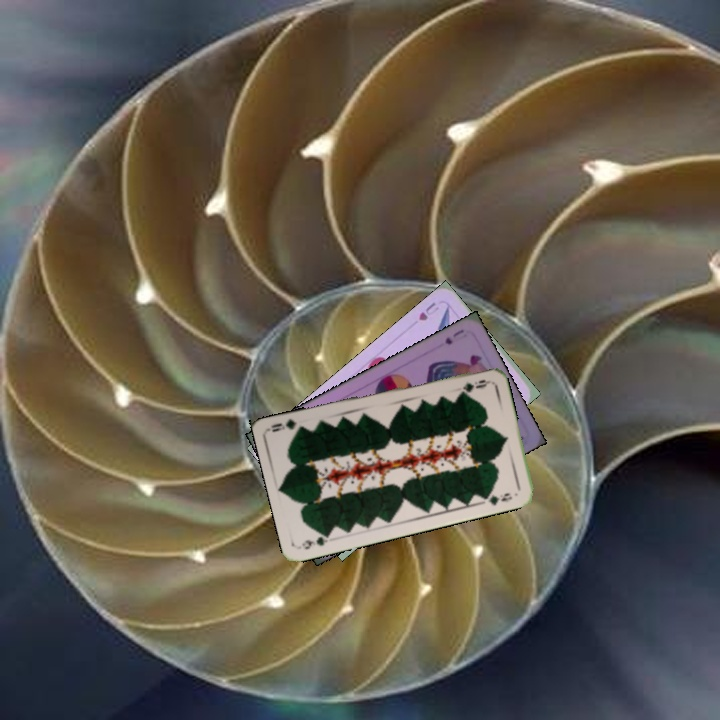G9: (297, 529, 334, 552), (458, 375, 492, 392)
HU: (415, 298, 442, 323)
SU: (441, 325, 467, 347)
